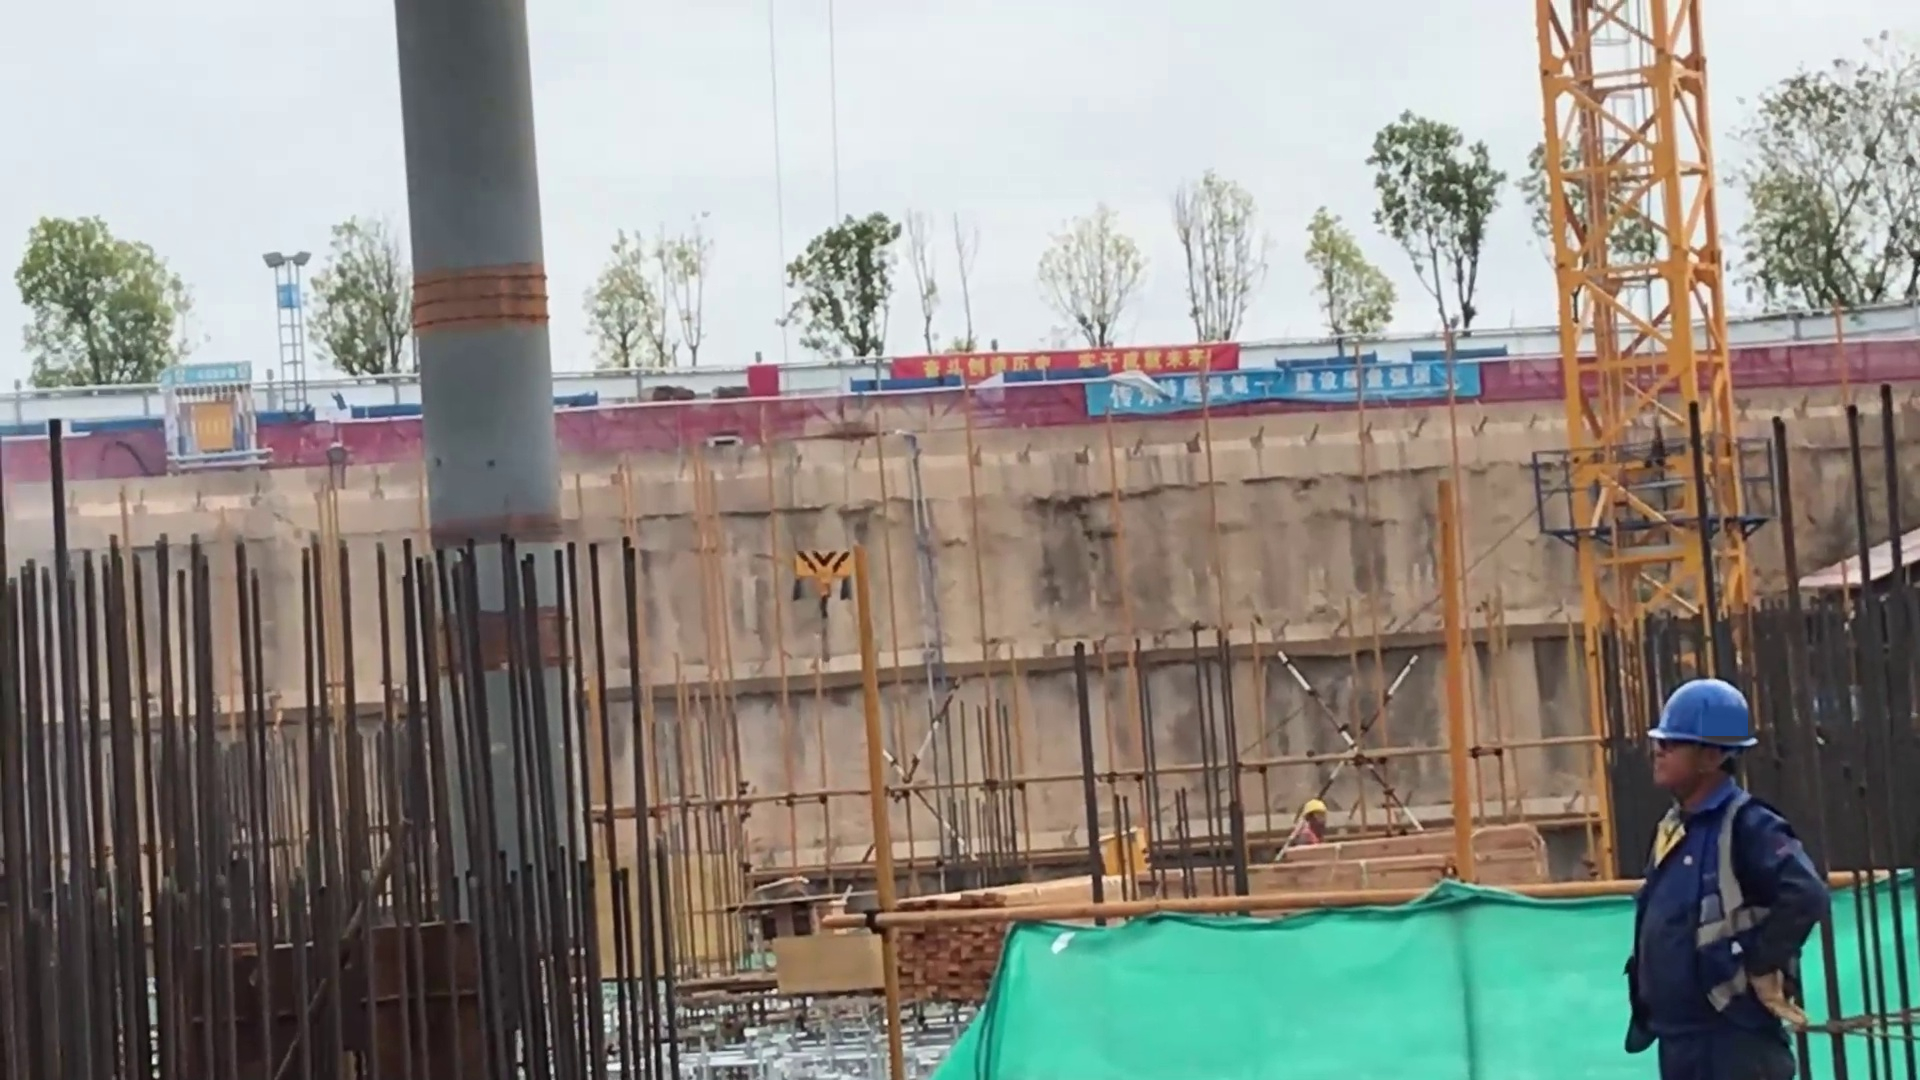ebox: (175, 398, 238, 452), (1099, 828, 1150, 870)
helmet: (1645, 678, 1761, 749), (1303, 799, 1326, 818)
hook: (789, 546, 857, 620)
person: (1623, 674, 1838, 1080), (1286, 797, 1328, 846)
slogan: (1087, 364, 1478, 414), (891, 346, 1239, 379)
vest: (1622, 795, 1831, 1037)
wood: (1251, 825, 1546, 884), (896, 887, 1004, 1004)
